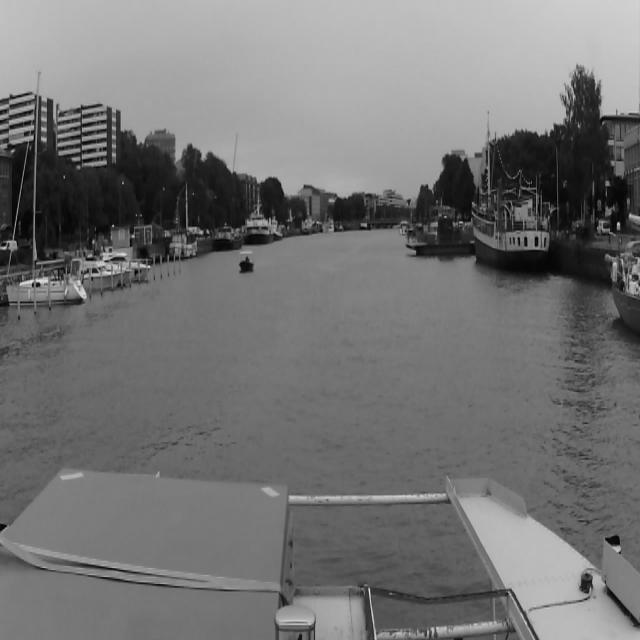ship: (10, 69, 86, 303), (470, 180, 548, 266), (407, 215, 475, 253), (79, 262, 121, 294), (247, 204, 275, 242), (213, 223, 245, 253), (169, 231, 197, 255), (239, 250, 255, 274), (302, 220, 322, 238), (398, 218, 410, 236), (326, 219, 335, 231)
